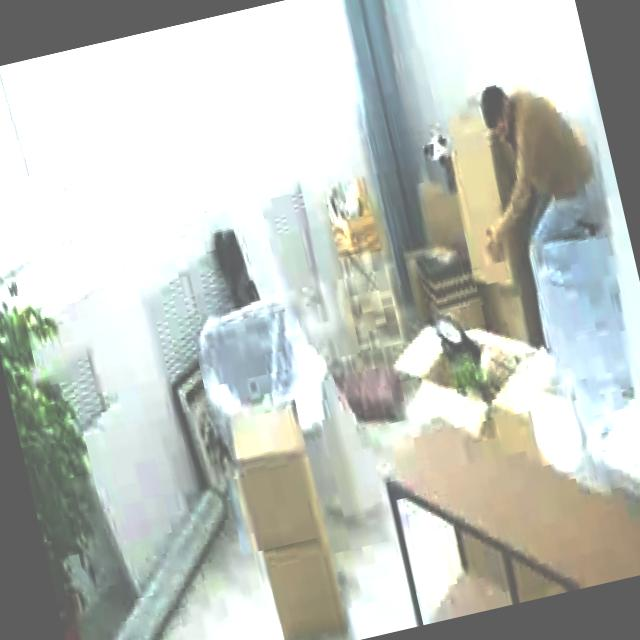Box: (222, 400, 318, 550), (262, 531, 344, 633)
